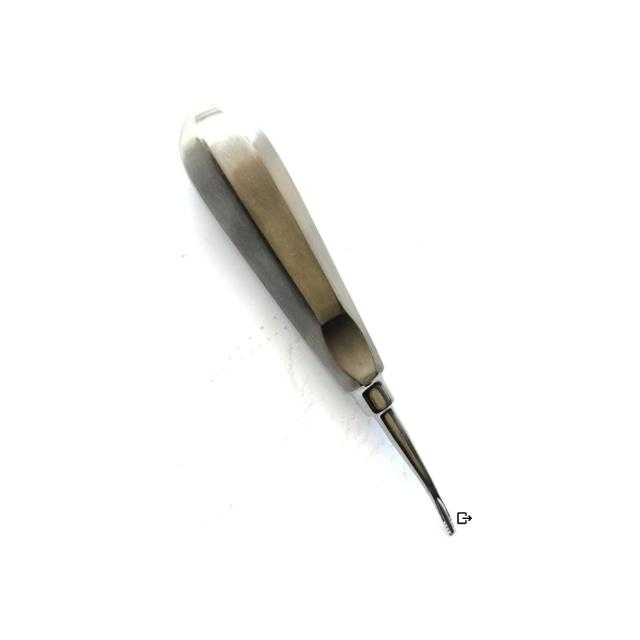botador: (177, 105, 473, 536)
